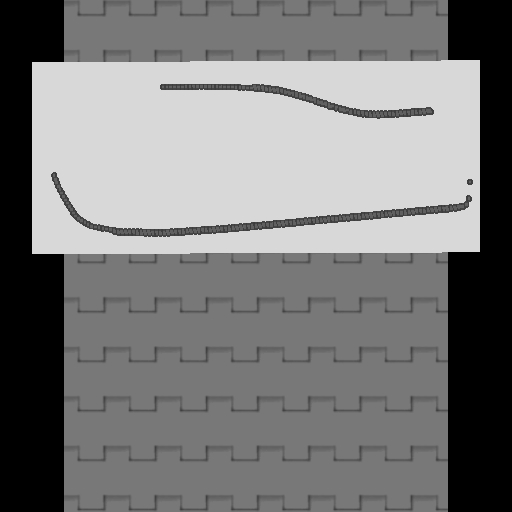Defect: (49, 79, 161, 171)
